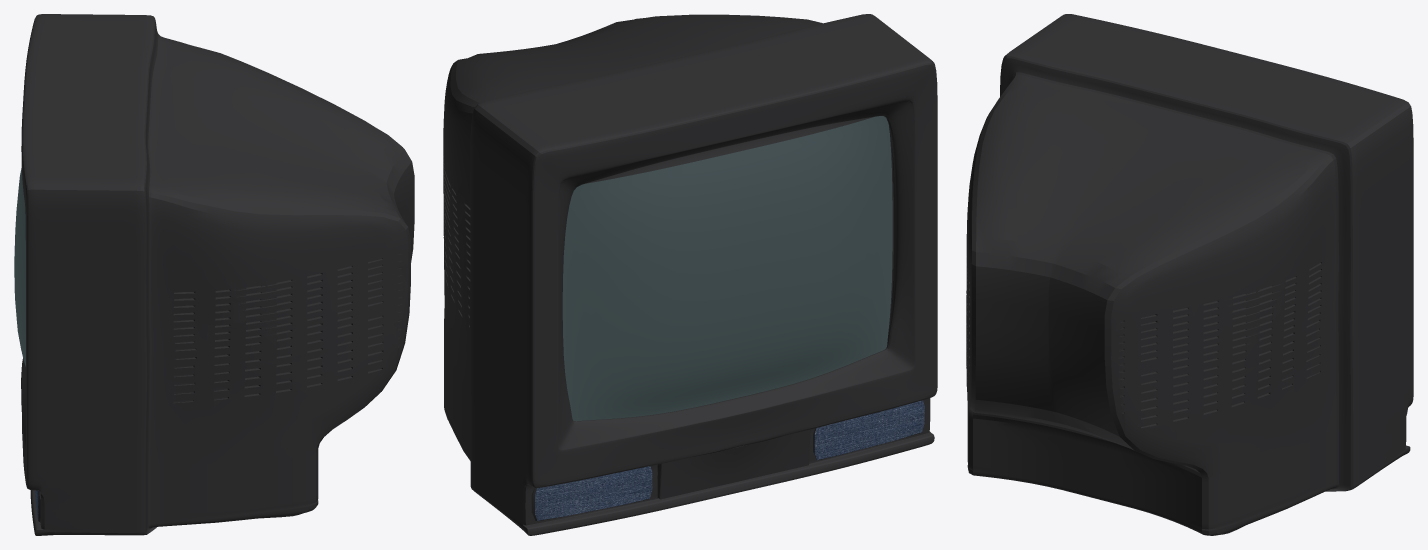
The model's file is crt.glb.
3 views of the same model, side by side, from view 1: azimuth 30°, elevation 25°; view 2: azimuth 150°, elevation 25°; view 3: azimuth 270°, elevation 25° (orthographic). The views are drawn at different scales.
Visible parts, largest first — view 1: CRT; view 2: CRT; view 3: CRT.
Part boxes in pixels (box(x1,y1,x2,y2)): CRT: box(14, 14, 414, 535); CRT: box(443, 14, 937, 535); CRT: box(966, 14, 1413, 535).
Bounding box in the file's own units: 2.26 × 1.86 × 2.15.
Materials: 3 (1 with a texture image).
